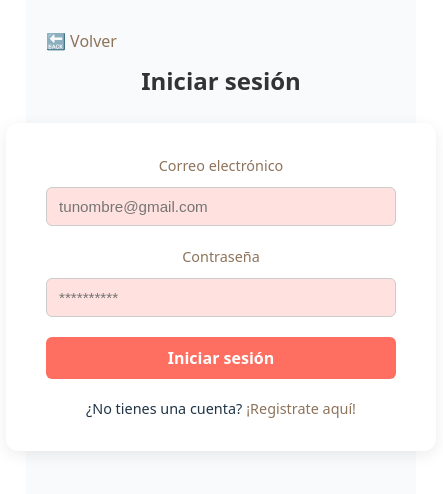
Test case: LoginPage › shows error message if login fails
Type "test@example.com" into the field with placeholder "tunombre@gmail.com". click: (221, 207)
box: [46,187,396,226]
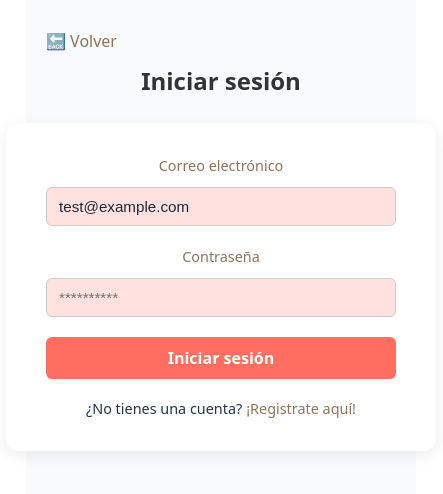
Type "wrongpassword" into the password field with placeholder "**********". click: (221, 298)
box: [46,278,396,317]
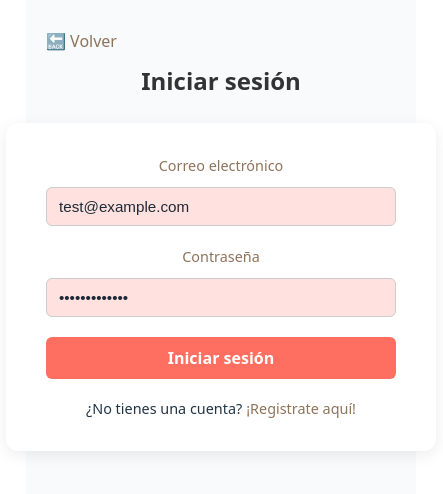
Click the button "Iniciar sesión". click: click(221, 358)
box: [46,336,396,378]
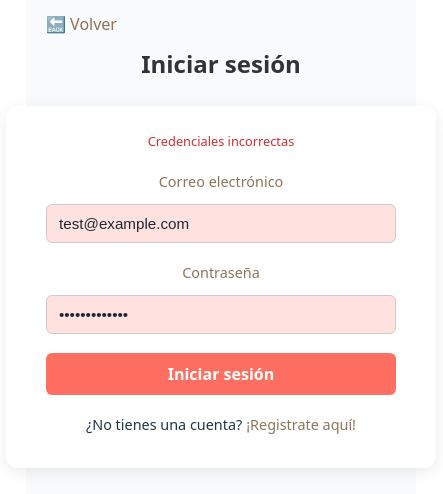
Now the text "Credenciales incorrectas" is shown, box [148,132,294,150]
